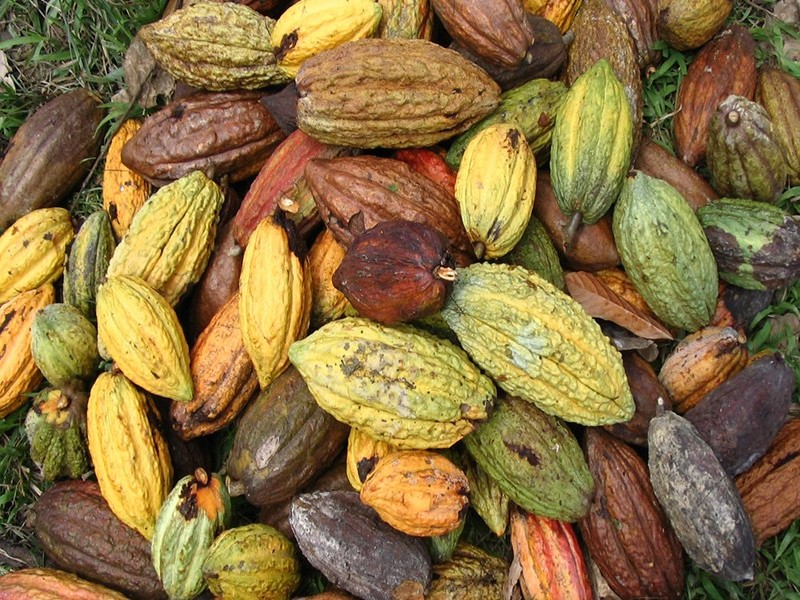Cacaopod: (445, 259, 637, 425), (294, 39, 502, 151), (95, 275, 196, 400)
